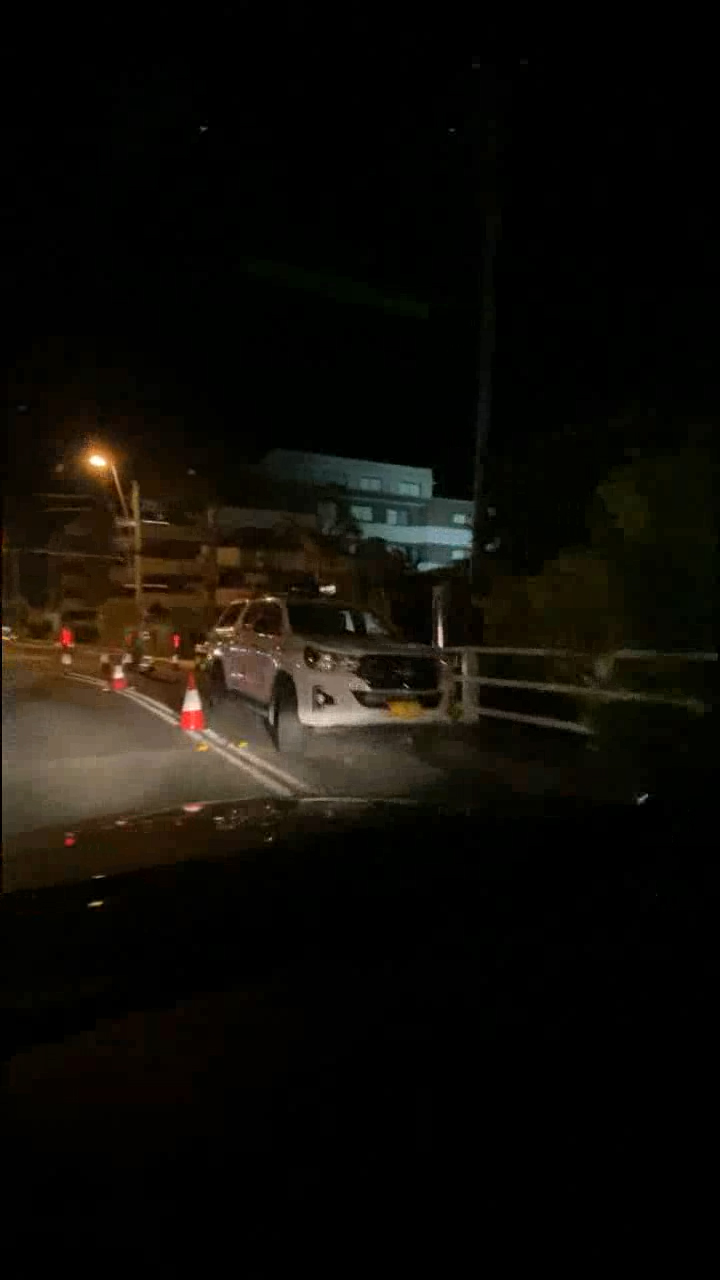road cone: (178, 670, 207, 745), (104, 658, 133, 698), (52, 650, 75, 681)
